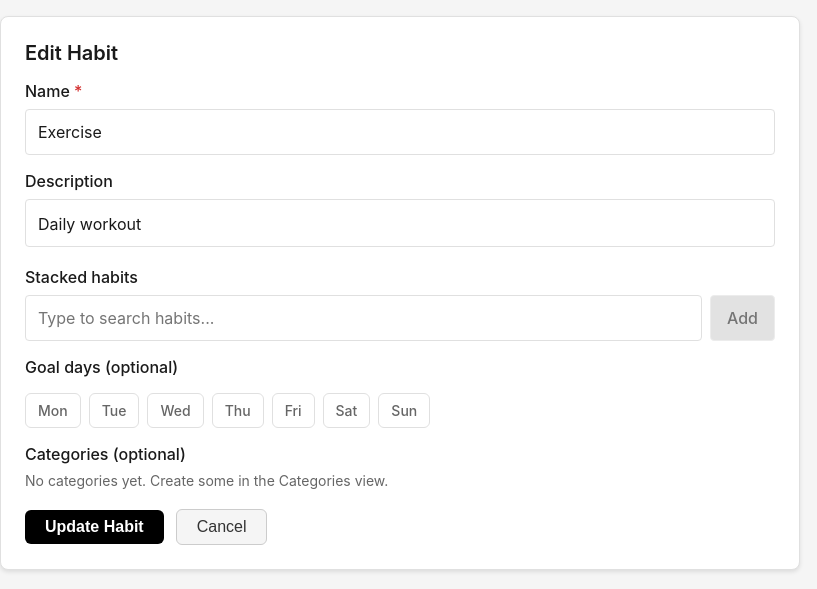
Test: HabitForm › Cancel functionality › should reset form to habit values when cancel is clicked in edit mode
Replace the text in the field labelled "Name *" with "Changed Name": (400, 132) [25, 109, 775, 155]
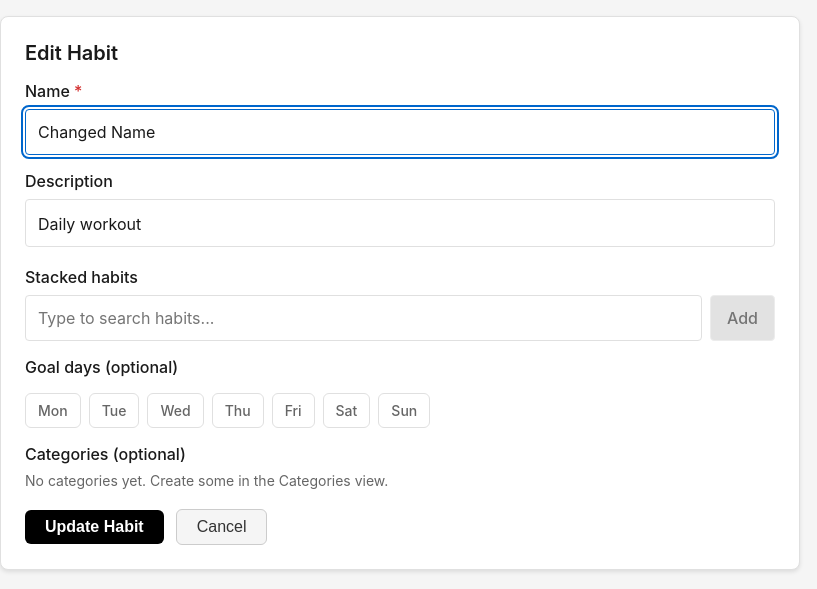
Click the button "Cancel": (222, 527) [176, 509, 268, 545]
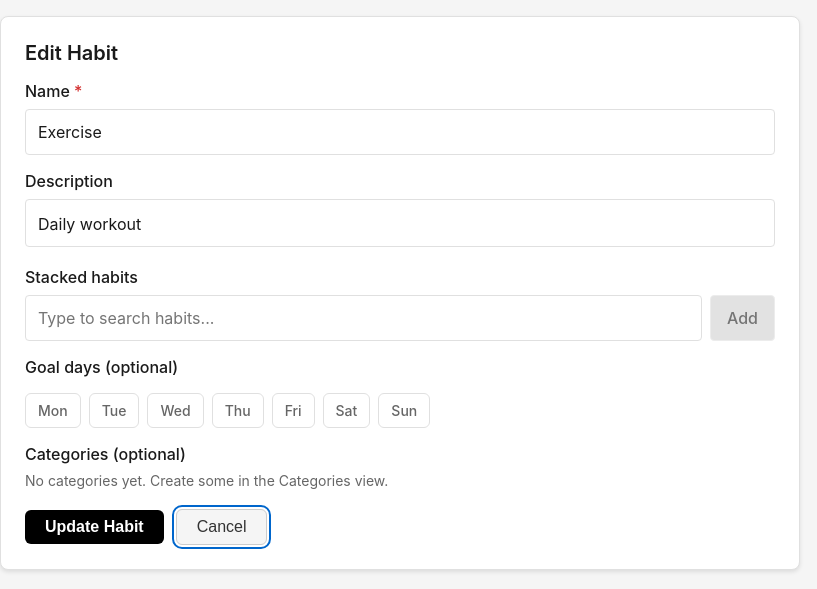
Check: the field labelled "Name *" holds "Exercise", box [25, 109, 775, 155]
